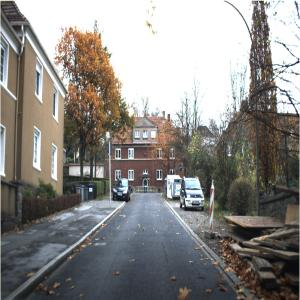go right: (180, 165, 184, 172)
